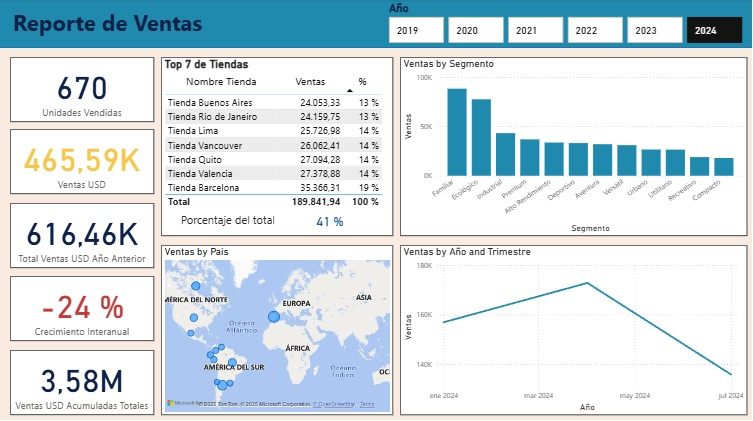

What the dashboard file says about the page in this screenshot:
{"tool":"powerbi","page":{"name":"Page 1","canvas":[1280,720],"ordinal":4},"visuals":[{"type":"shape","box":[0,0,1280,83],"z":0},{"type":"advancedSlicerVisual","fields":{"Values":["Fechas.Date.Variación.Jerarquía de fechas.Año"]},"box":[655.2,3.4,611.2,76.2],"z":1000},{"type":"textbox","box":[18.6,8.5,463.9,66],"z":2000},{"type":"card","fields":{"Values":["Ventas.Ventas"]},"box":[18.6,220.1,243.8,110.1],"z":3000},{"type":"card","fields":{"Values":["Ventas.Unidades Vendidas"]},"box":[18.6,98.2,243.8,110.1],"z":4000},{"type":"card","fields":{"Values":["Ventas.Total Ventas Año Anterior"]},"box":[18.6,345.4,243.8,110.1],"z":5000},{"type":"card","fields":{"Values":["Ventas.Crecimiento Interanual"]},"box":[18.6,469,243.8,110.1],"z":6000},{"type":"card","fields":{"Values":["Ventas.Ventas Acumuladas"]},"box":[18.6,594.3,243.8,110.1],"z":7000},{"type":"tableEx","title":"Top 7 de Tiendas","fields":{"Values":["Tiendas.Nombre Tienda","Ventas.Ventas","Ventas.% Ventas por Tienda"]},"box":[274.3,98.2,392.8,303.1],"z":8000},{"type":"columnChart","fields":{"Category":["Producto.Segmento"],"Y":["Ventas.Ventas"]},"box":[678.9,98.2,587.5,303.1],"z":9000},{"type":"lineChart","fields":{"Y":["Ventas.Ventas"],"Category":["Fechas.Date.Variación.Jerarquía de fechas.Año","Fechas.Date.Variación.Jerarquía de fechas.Trimestre"]},"box":[678.9,416.5,587.5,287.8],"z":10000},{"type":"map","fields":{"Category":["Tiendas.Pais","Tiendas.Ciudad"],"Size":["Ventas.Ventas"]},"box":[274.3,416.5,392.8,287.8],"z":11000},{"type":"card","fields":{"Values":["Ventas.% Top 7 del Total"]},"box":[519.8,355.6,81.3,40.6],"z":12000},{"type":"textbox","box":[303.1,355.6,179.5,40.6],"z":13000}]}

Visuals, with their boxes in screenshot pixels (x1, y1, x2, y2), scaled from the page's 1280x720 canvas onto the 753x421 screenshot:
shape: box(0, 0, 752, 49)
advancedSlicerVisual - Fechas.Date.Variación.Jerarquía de fechas.Año: box(385, 2, 745, 47)
textbox: box(11, 5, 284, 44)
card - Ventas.Ventas: box(11, 129, 154, 193)
card - Ventas.Unidades Vendidas: box(11, 57, 154, 122)
card - Ventas.Total Ventas Año Anterior: box(11, 202, 154, 266)
card - Ventas.Crecimiento Interanual: box(11, 274, 154, 339)
card - Ventas.Ventas Acumuladas: box(11, 348, 154, 412)
"Top 7 de Tiendas" tableEx: box(161, 57, 392, 235)
columnChart - Producto.Segmento x Ventas.Ventas: box(399, 57, 745, 235)
lineChart - Ventas.Ventas x Fechas.Date.Variación.Jerarquía de fechas.Año: box(399, 244, 745, 412)
map - Tiendas.Pais x Tiendas.Ciudad: box(161, 244, 392, 412)
card - Ventas.% Top 7 del Total: box(306, 208, 354, 232)
textbox: box(178, 208, 284, 232)
